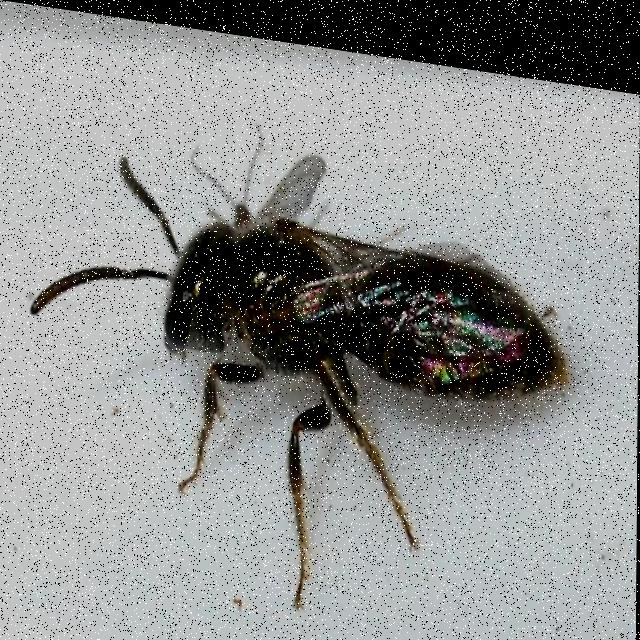Lasioglossum: (18, 104, 580, 611)
